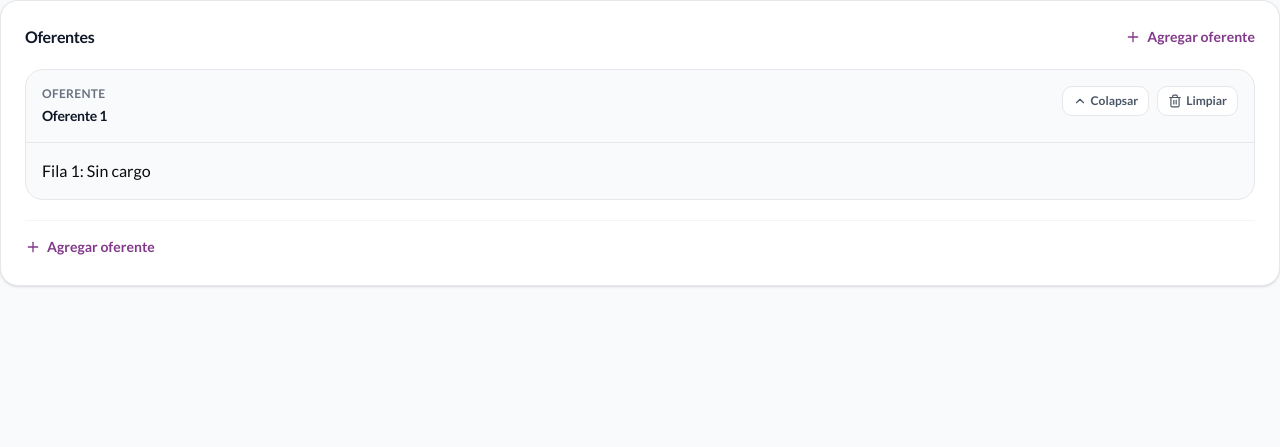
Test case: RepeatedPeopleSection › permite personalizar la fila agregada desde el caller
The image size is (1280, 447).
Click the button with test id "oferentes-add-button-bottom" at (90, 247), box [25,237,155,257]
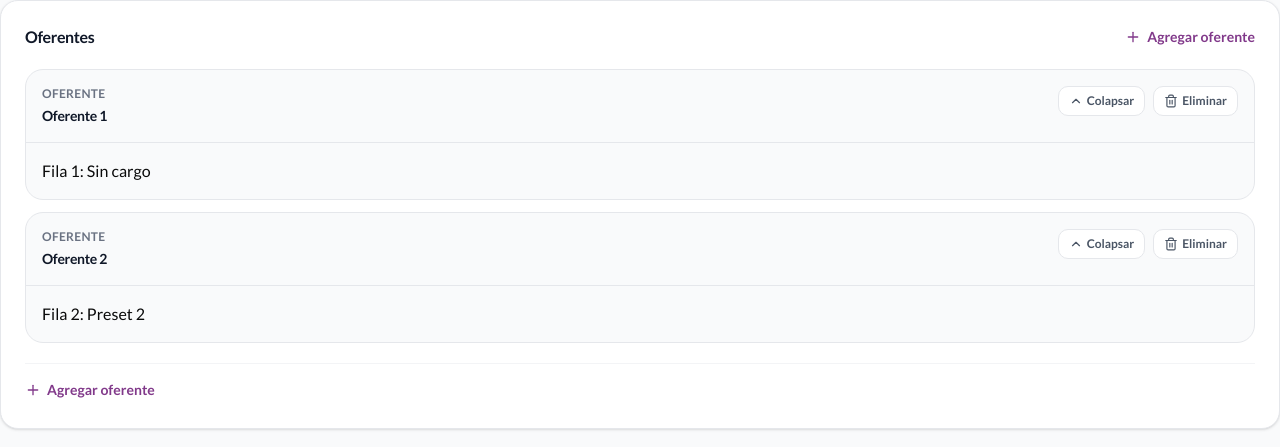
Now the text "Fila 2: Preset 2" is shown, box [42,304,145,323]
